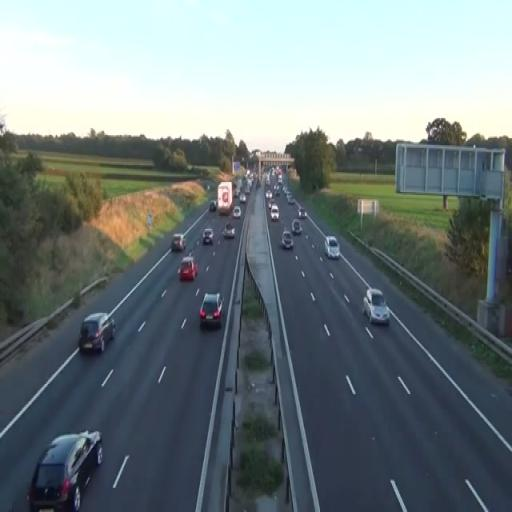Car: (26, 430, 104, 512), (78, 312, 116, 354), (362, 288, 390, 326), (199, 292, 224, 330), (178, 254, 198, 282), (324, 236, 340, 260), (172, 233, 186, 252), (281, 230, 294, 250), (222, 222, 236, 239), (203, 228, 214, 244), (292, 219, 302, 236), (233, 206, 241, 219)
Truck: (218, 182, 232, 215)
